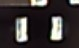COMP: (8, 13, 69, 45)
GAP: (16, 1, 47, 24)
